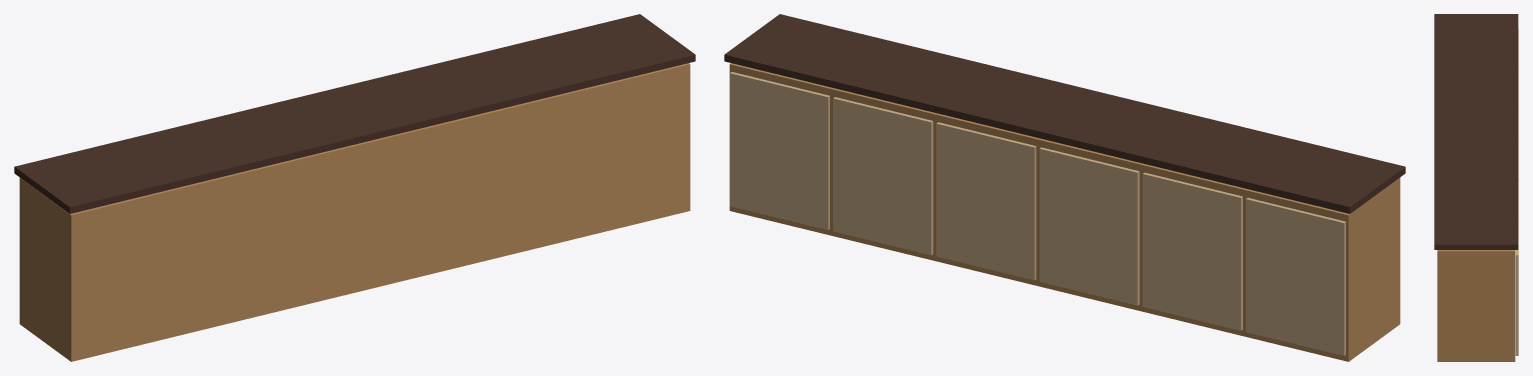
The picture shows the model from 3 angles, left to right: view 1: azimuth 30°, elevation 25°; view 2: azimuth 150°, elevation 25°; view 3: azimuth 270°, elevation 25°; orthographic projection. The views are drawn at different scales.
Parts seen in each view (by area): view 1: mueble_lab; view 2: mueble_lab; view 3: mueble_lab.
Boxes of the visible parts, x1,y1,x2,y2 form: mueble_lab: (14,14,695,361); mueble_lab: (724,14,1405,361); mueble_lab: (1434,14,1518,361).
Size of the model in its own units: 3.84 by 0.592 by 0.92.
